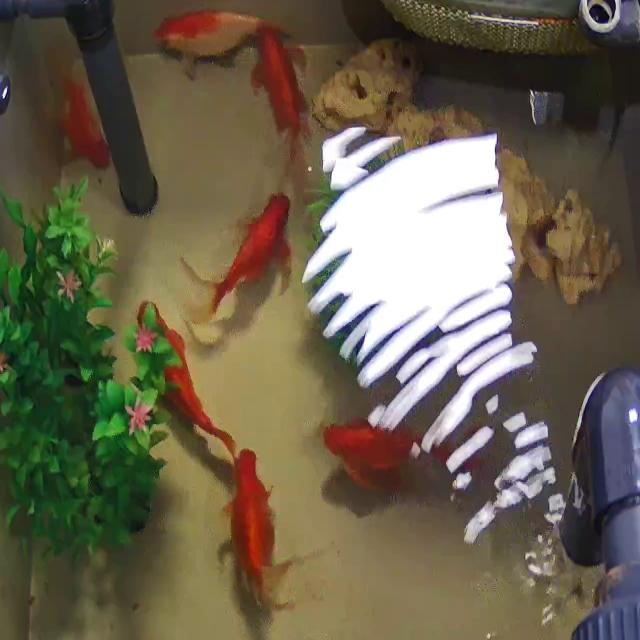fish: (209, 437, 311, 616), (182, 182, 301, 334), (140, 295, 227, 455), (318, 412, 463, 496), (249, 24, 310, 175), (46, 58, 112, 188), (148, 0, 263, 65)
